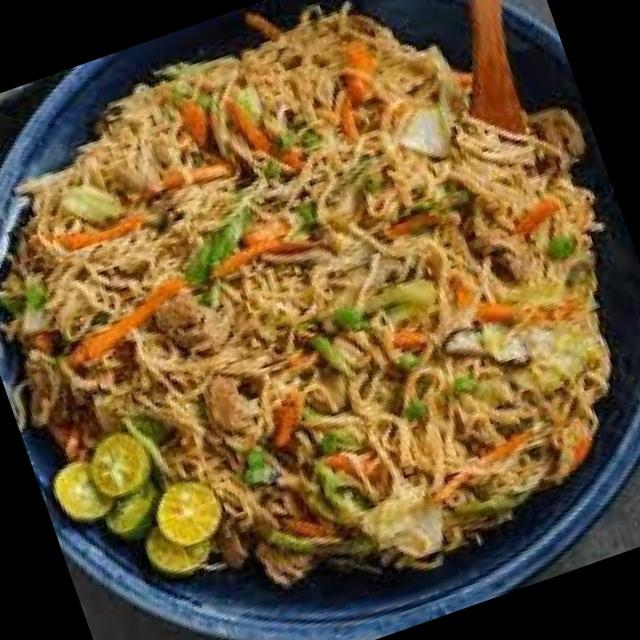pancit bihon: (5, 20, 601, 583)
